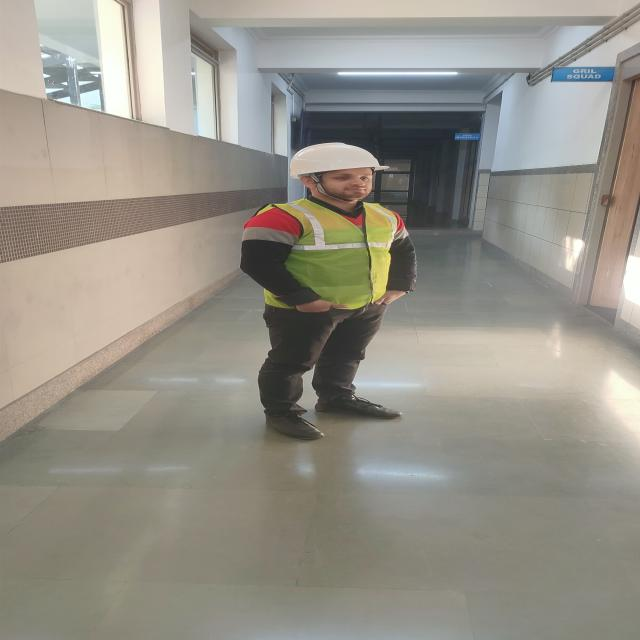safe: (238, 142, 416, 440)
